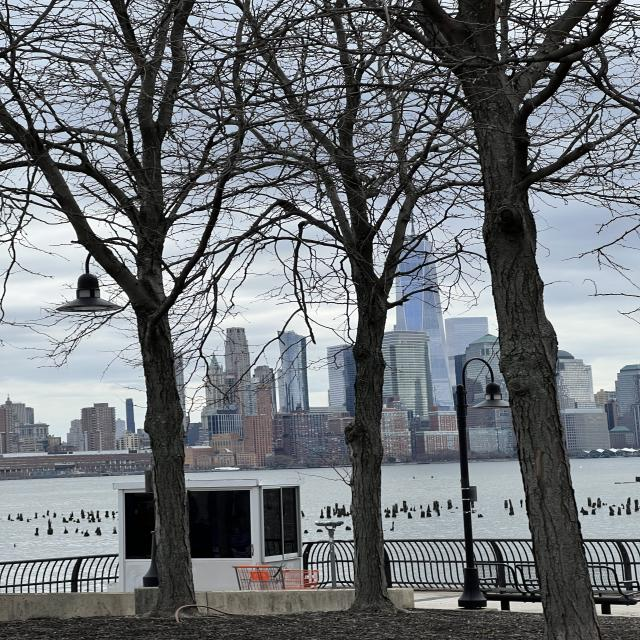WTC: (394, 238, 446, 332)
